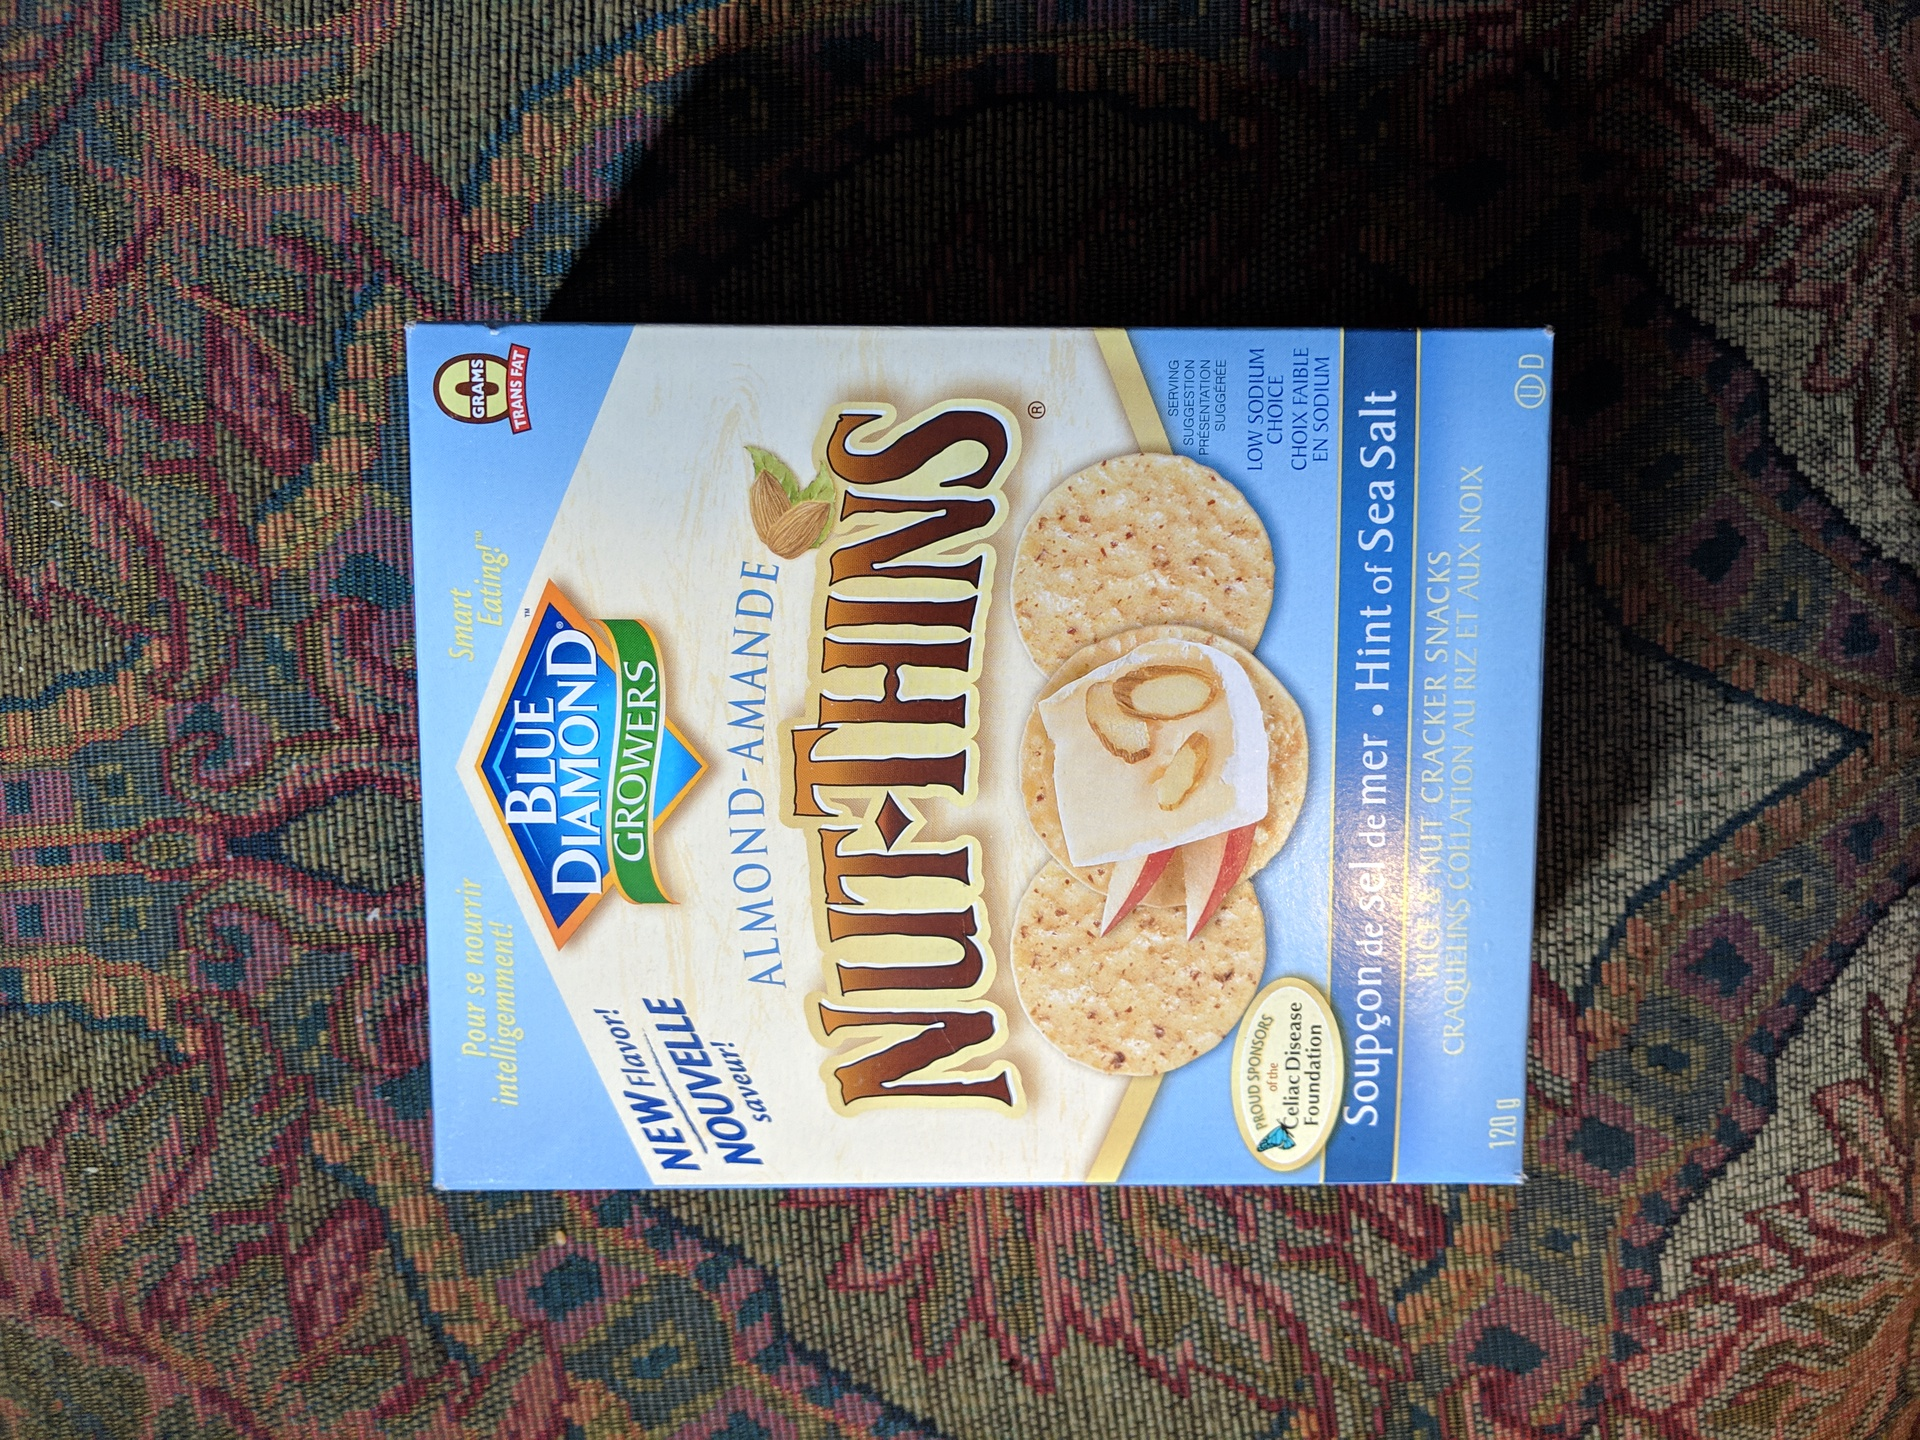blue_diamond_nut_thins_almond_seasalt: (419, 324, 1538, 1198)
